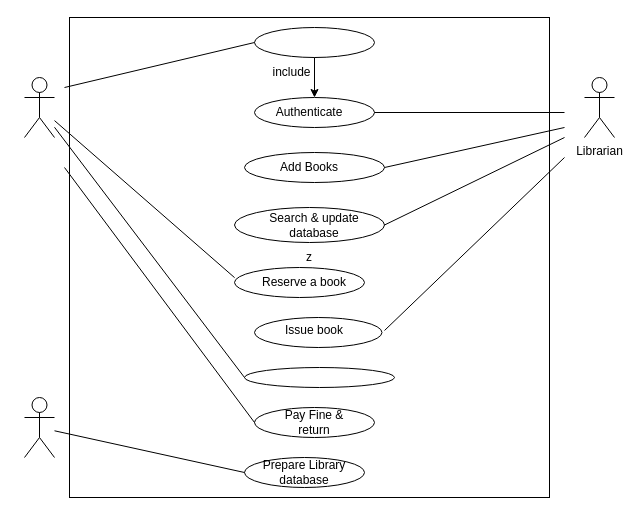
The diagram is 640 pixels wide and 515 high, and some of its shapes have lost their labels. Here are the shapes that lost their labels. From the top down, the centre of each, then its label:
At pixel 314 42: "Log in".
At pixel 39 107: "Member".
At pixel 319 377: "Renew a book".
At pixel 39 427: "System".
